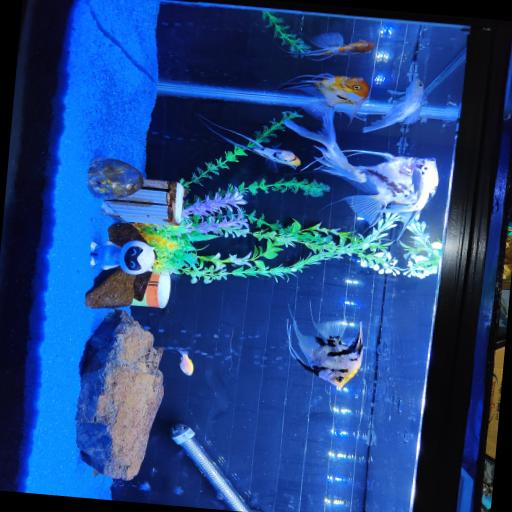Fish: (340, 150, 437, 226), (196, 114, 299, 171), (285, 116, 365, 183), (287, 320, 362, 389), (277, 74, 368, 127), (385, 158, 438, 235), (362, 78, 423, 132), (287, 32, 374, 61), (177, 349, 192, 376)
